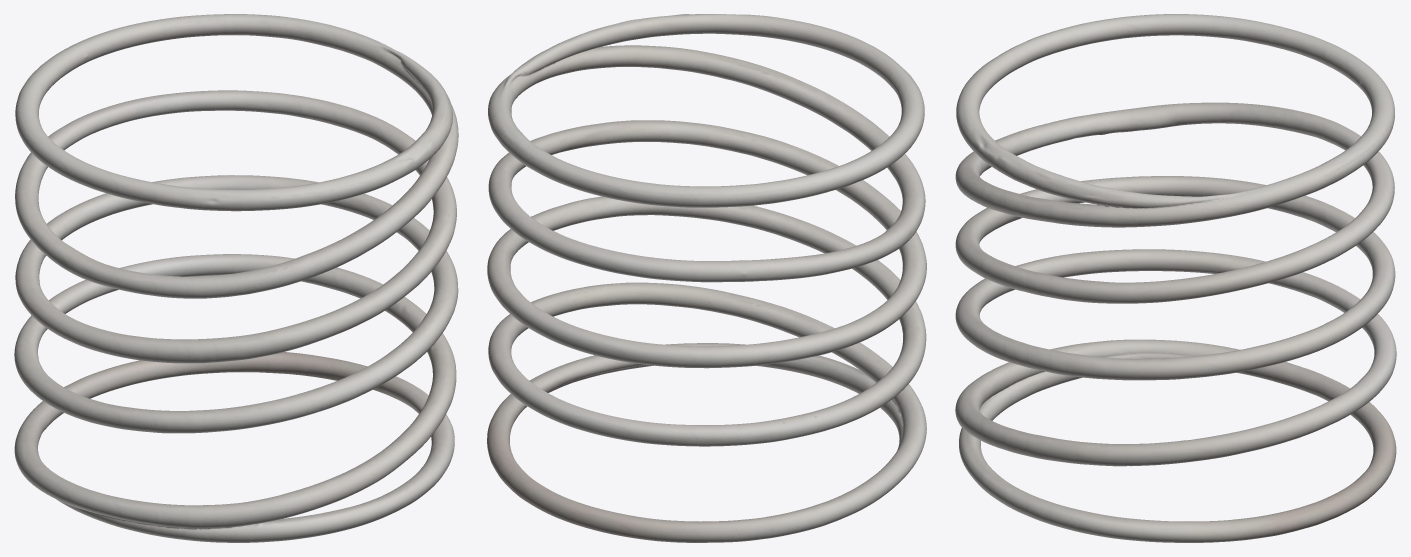
Rendered from tripo_convert_5fab5a58-072e-41bc-b407-65454e3a8eb9.fbx.
3 views of the same model, side by side, from view 1: azimuth 30°, elevation 25°; view 2: azimuth 150°, elevation 25°; view 3: azimuth 270°, elevation 25° (orthographic).
Visible parts, largest first — view 1: tripo_node_5fab5a58; view 2: tripo_node_5fab5a58; view 3: tripo_node_5fab5a58.
Boxes of the visible parts, x1,y1,x2,y2 form: tripo_node_5fab5a58: (14,14,458,542); tripo_node_5fab5a58: (487,14,926,542); tripo_node_5fab5a58: (955,14,1396,542).
Size of the model in its own units: 1 by 0.886 by 0.9957.
Materials: 1 (1 with a texture image).
